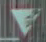Give way: (5, 5, 44, 40)
